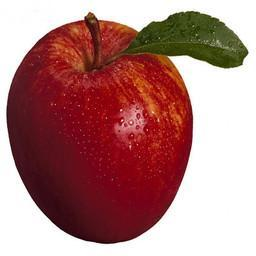apple: (3, 16, 195, 243)
